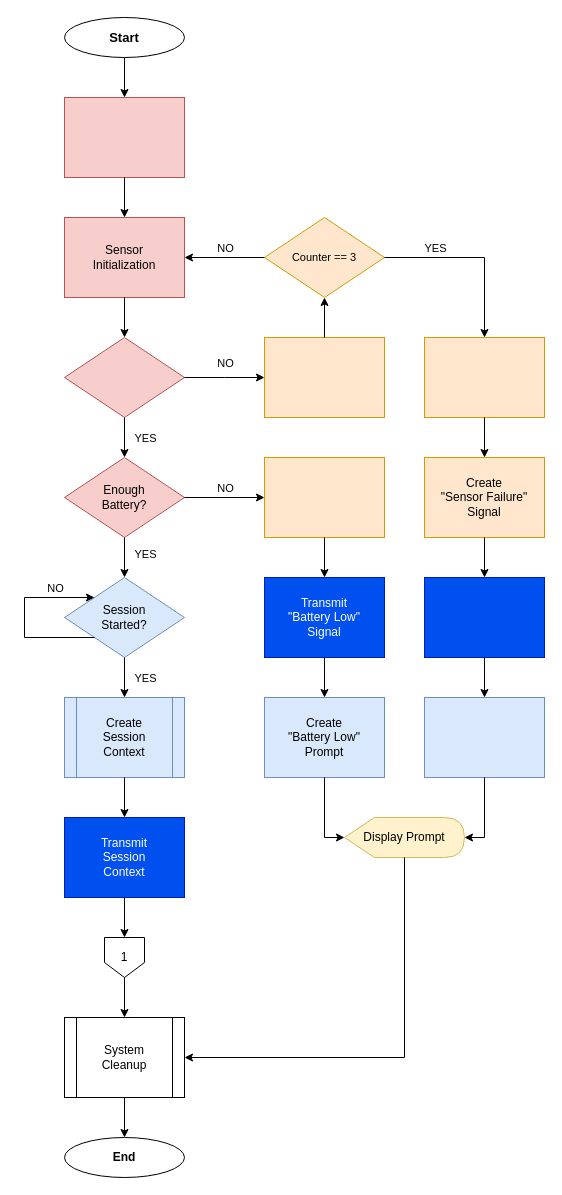
Some shapes in this 562 by 1195 pixel diagram are drawn without their labels. The shapes that lost their labels are listed below. From the top down, each one's centre as x and y in pixels, then its label:
point 124,137: Turn Power Switch On
point 124,377: Sensors Functional?
point 324,377: Increment Counter
point 484,377: Reset Counter
point 324,497: Create "Battery Low" Signal
point 484,617: Transmit "Sensor Failure" Signal
point 484,737: Create "Sensor Failure" Prompt
